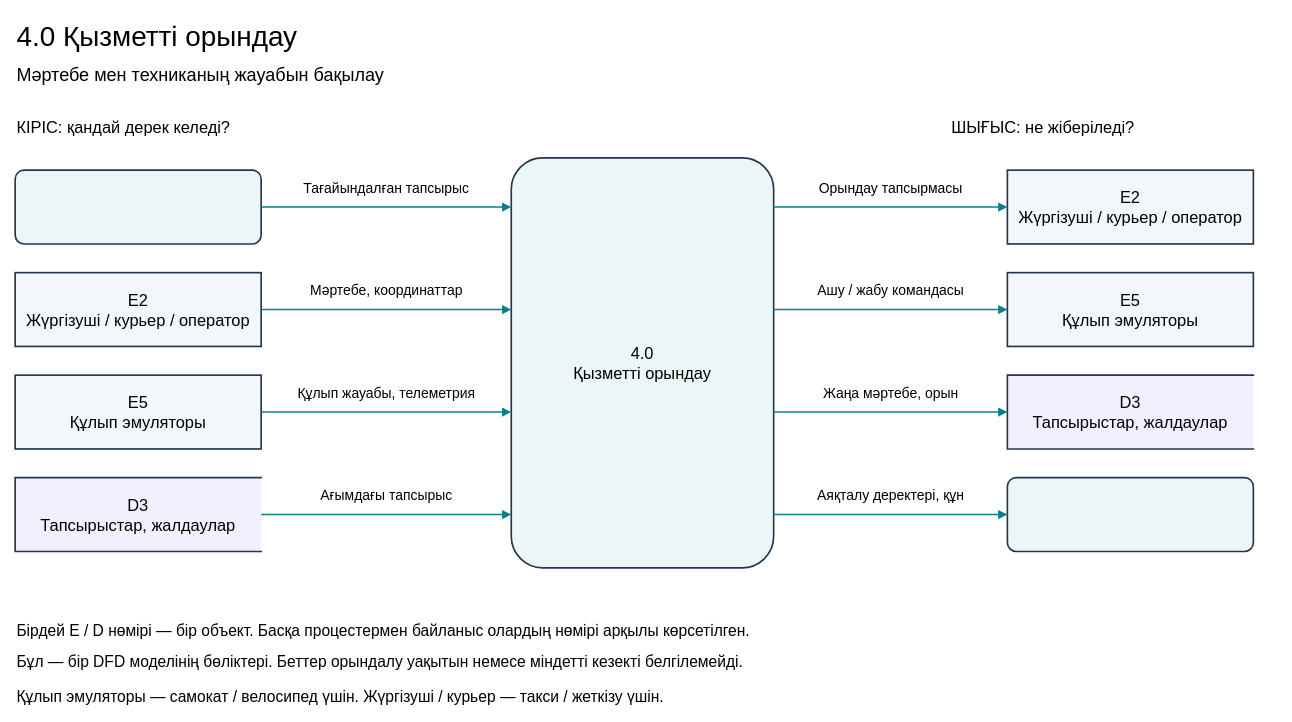
The diagram is 1292 pixels wide and 722 high, and some of its shapes have lost their labels. The shapes that lost their labels are listed below. From the top down, each one's box as (x1, y1, x2, y2) in pixels, then its label:
(14, 169, 262, 244): 3.0 Бағыт пен ресурсты таңдау
(1006, 476, 1254, 552): 5.0 Қызметті аяқтау
